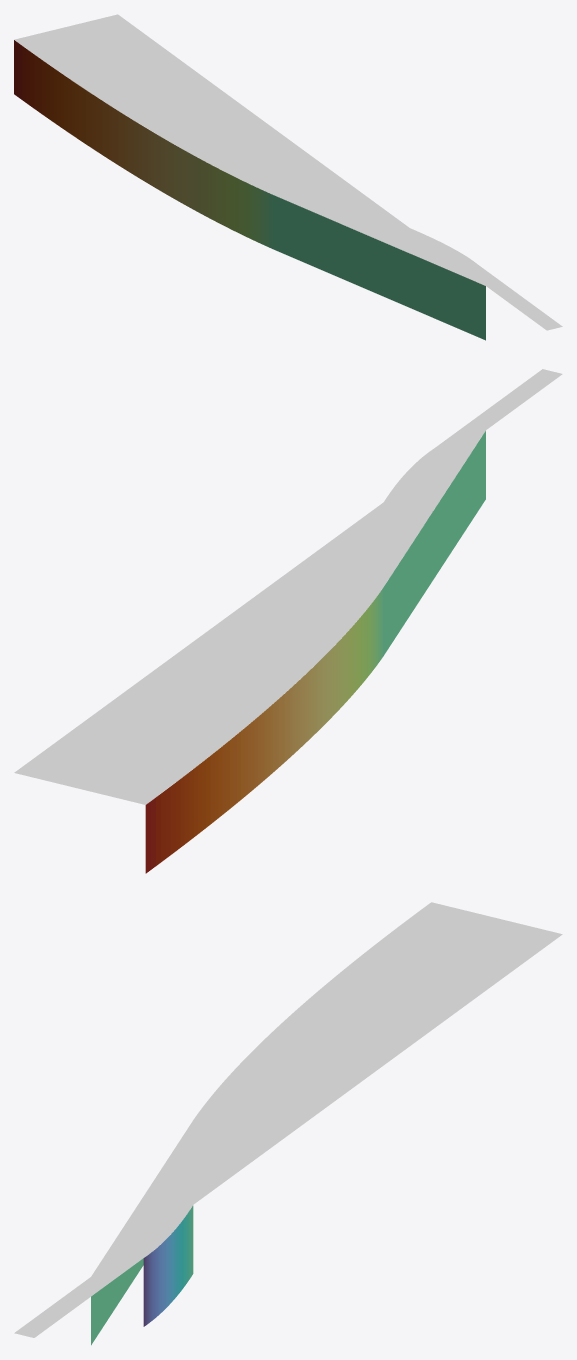
File: scramjet_n100_m100.glb
3 renders of one model, top to bottom at view 1: azimuth 30°, elevation 25°; view 2: azimuth 150°, elevation 25°; view 3: azimuth 330°, elevation 25°, orthographic. The views are drawn at different scales.
Visible parts, largest first — view 1: Renderer Node; view 2: Renderer Node; view 3: Renderer Node.
Boxes of the visible parts, x1=… form: Renderer Node: x1=14, y1=14, x2=562, y2=340; Renderer Node: x1=14, y1=369, x2=562, y2=873; Renderer Node: x1=14, y1=902, x2=562, y2=1345.
Bounding box in the file's own units: 1.13 × 0.5006 × 7.19.
